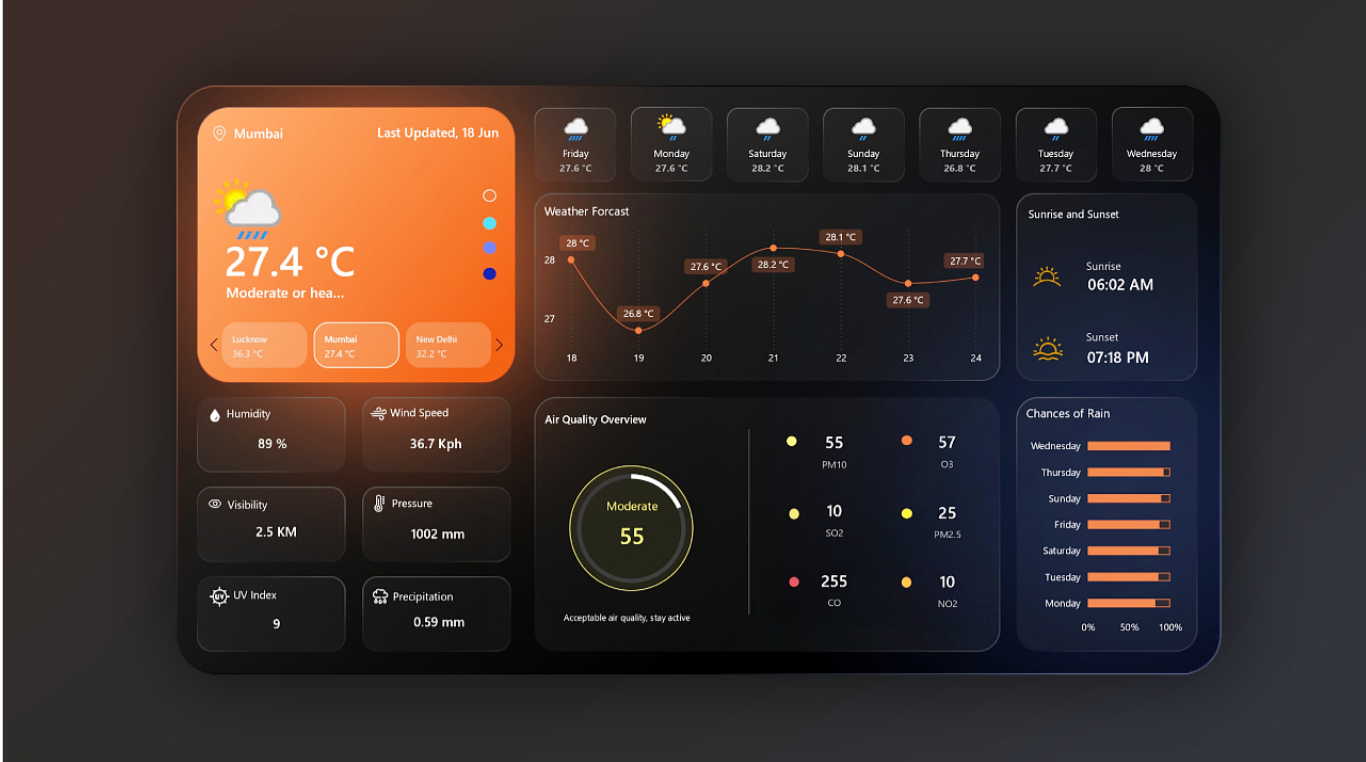

The dashboard page shown, as its layout file describes it:
{"tool":"powerbi","page":{"name":"Page 1","canvas":[1280,720],"ordinal":0},"visuals":[{"type":"donutChart","fields":{"Y":["Sum(Current.current.air_quality.pm10)","_Measures.Left_value_PM10"]},"box":[445.3,432.8,226.8,225.4],"z":0},{"type":"shape","box":[460.6,448.1,197.6,200.4],"z":1000},{"type":"advancedSlicerVisual","fields":{"Values":["Locations.location.name"]},"box":[16.9,284.7,409,74.8],"z":2000},{"type":"shape","box":[41,182.2,181,62.7],"z":3000},{"type":"shape","box":[41,244.9,181,39.8],"z":4000},{"type":"shape","box":[67.6,39.8,120.6,39.8],"z":5000},{"type":"shape","box":[165.3,41,237.7,41],"z":6000},{"type":"image","box":[32.6,44.6,35,33.8],"z":7000},{"type":"cardVisual","fields":{"Data":["Min(Current.current.condition.icon)"]},"box":[0,67.6,188.2,152],"z":8000},{"type":"image","box":[30.2,377.6,31.4,29],"z":9000},{"type":"image","box":[22.9,487.4,44.6,37.4],"z":10000},{"type":"image","box":[26.5,596,38.6,36.2],"z":11000},{"type":"image","box":[222,377.6,43.4,29],"z":12000},{"type":"image","box":[228,487.4,31.4,32.6],"z":13000},{"type":"image","box":[224.4,603.2,38.6,29],"z":14000},{"type":"shape","box":[61.5,371.6,237.7,41],"z":15000},{"type":"shape","box":[61.5,483.8,237.7,41],"z":16000},{"type":"shape","box":[65.1,593.6,237.7,41],"z":17000},{"type":"shape","box":[259.4,371.6,237.7,41],"z":18000},{"type":"shape","box":[259.4,483.8,237.7,41],"z":19000},{"type":"shape","box":[259.4,597.2,237.7,41],"z":20000},{"type":"card","fields":{"Values":["Sum(Current.current.humidity)"]},"box":[43.8,407,123.6,52.8],"z":21000},{"type":"card","fields":{"Values":["_Measures.Wind_Speed"]},"box":[253.7,405.7,124.9,52.8],"z":22000},{"type":"card","fields":{"Values":["Sum(Current.current.pressure_in)"]},"box":[254.6,520,124.3,53.1],"z":23000},{"type":"card","fields":{"Values":["_Measures.Visibility_Distance"]},"box":[39.9,525.5,124.9,54.1],"z":24000},{"type":"card","fields":{"Values":["Sum(Current.current.uv)"]},"box":[39.9,632.4,124.9,54.1],"z":25000},{"type":"card","fields":{"Values":["_Measures.Precipitation_Measure"]},"box":[237,631.1,124.9,54.1],"z":26000},{"type":"advancedSlicerVisual","fields":{"Values":["Forecast By Day.Day_Name"]},"box":[425.9,20.5,836.1,94.1],"z":27000},{"type":"lineChart","title":"Forecast Weather","fields":{"Y":["Sum(Forecast By Day.forecast.forecastday.day.avgtemp_c)"],"Category":["Forecast By Day.Day_Name"]},"box":[448,140.4,550.1,209.3],"z":28000},{"type":"shape","box":[1042.8,130.2,237.4,40.8],"z":29000},{"type":"shape","box":[1124.3,176.1,155.7,42.1],"z":30000},{"type":"shape","box":[1124.3,206.8,155.7,43.4],"z":31000},{"type":"shape","box":[1124.3,264.2,155.7,62.5],"z":32000},{"type":"shape","box":[1124.3,242.5,155.7,43.4],"z":33000},{"type":"image","box":[1051.8,188.9,60,49.8],"z":34000},{"type":"image","box":[1042.8,245.1,74,63.8],"z":35000},{"type":"hundredPercentStackedBarChart","title":"Chance of Rain","fields":{"Y":["Sum(Forecast By Day.forecast.forecastday.day.daily_chance_of_rain)","Current.Left_value_Rain"],"Category":["Forecast By Day.Day_Name"]},"box":[1042.8,391.9,196.6,292.3],"z":36000},{"type":"shape","box":[448.1,386.9,238,40.4],"z":37000},{"type":"card","fields":{"Values":["Sum(Current.current.air_quality.o3)"]},"box":[864.2,424.4,123.9,69.6],"z":38000},{"type":"card","fields":{"Values":["Sum(Current.current.air_quality.pm2_5)"]},"box":[865.6,510.7,123.9,69.6],"z":39000},{"type":"card","fields":{"Values":["Sum(Current.current.air_quality.no2)"]},"box":[864.2,590,123.9,69.6],"z":40000},{"type":"card","fields":{"Values":["Sum(Current.current.air_quality.pm10)"]},"box":[723.6,424.4,123.9,69.6],"z":41000},{"type":"card","fields":{"Values":["Sum(Current.current.air_quality.so2)"]},"box":[723.6,510.7,123.9,69.6],"z":42000},{"type":"card","fields":{"Values":["Sum(Current.current.air_quality.co)"]},"box":[723.6,590,123.9,69.6],"z":43000},{"type":"shape","box":[723.6,449.5,15,15],"z":44000},{"type":"shape","box":[722.2,609.5,15.3,15.3],"z":45000},{"type":"shape","box":[722.2,531.6,15.3,15.3],"z":46000},{"type":"shape","box":[864.2,448.1,15.3,15.3],"z":47000},{"type":"shape","box":[864.2,530.2,15.3,15.3],"z":48000},{"type":"shape","box":[865.6,610.9,15.3,15.3],"z":49000},{"type":"shape","box":[595.6,411.9,180.9,270],"z":50000},{"type":"card","fields":{"Values":["Sum(Current.current.air_quality.pm10)"]},"box":[496.8,512.1,123.9,69.6],"z":51000},{"type":"shape","box":[445.3,648.5,226.8,61.2],"z":52000}]}

Visuals, with their boxes in screenshot pixels (x1, y1, x2, y2), scaled from the page's 1280x720 canvas onto the 1366x762 screenshot:
donutChart - Sum(Current.current.air_quality.pm10) x _Measures.Left_value_PM10: l=475, t=458, r=717, b=697
shape: l=492, t=474, r=702, b=686
advancedSlicerVisual - Locations.location.name: l=18, t=301, r=455, b=380
shape: l=44, t=193, r=237, b=259
shape: l=44, t=259, r=237, b=301
shape: l=72, t=42, r=201, b=84
shape: l=176, t=43, r=430, b=87
image: l=35, t=47, r=72, b=83
cardVisual - Min(Current.current.condition.icon): l=0, t=72, r=201, b=232
image: l=32, t=400, r=66, b=430
image: l=24, t=516, r=72, b=555
image: l=28, t=631, r=69, b=669
image: l=237, t=400, r=283, b=430
image: l=243, t=516, r=277, b=550
image: l=239, t=638, r=281, b=669
shape: l=66, t=393, r=319, b=437
shape: l=66, t=512, r=319, b=555
shape: l=69, t=628, r=323, b=672
shape: l=277, t=393, r=530, b=437
shape: l=277, t=512, r=530, b=555
shape: l=277, t=632, r=530, b=675
card - Sum(Current.current.humidity): l=47, t=431, r=179, b=487
card - _Measures.Wind_Speed: l=271, t=429, r=404, b=485
card - Sum(Current.current.pressure_in): l=272, t=550, r=404, b=607
card - _Measures.Visibility_Distance: l=43, t=556, r=176, b=613
card - Sum(Current.current.uv): l=43, t=669, r=176, b=727
card - _Measures.Precipitation_Measure: l=253, t=668, r=386, b=725
advancedSlicerVisual - Forecast By Day.Day_Name: l=455, t=22, r=1347, b=121
"Forecast Weather" lineChart: l=478, t=149, r=1065, b=370
shape: l=1113, t=138, r=1365, b=181
shape: l=1200, t=186, r=1365, b=231
shape: l=1200, t=219, r=1365, b=265
shape: l=1200, t=280, r=1365, b=346
shape: l=1200, t=257, r=1365, b=303
image: l=1122, t=200, r=1186, b=253
image: l=1113, t=259, r=1192, b=327
"Chance of Rain" hundredPercentStackedBarChart: l=1113, t=415, r=1323, b=724
shape: l=478, t=409, r=732, b=452
card - Sum(Current.current.air_quality.o3): l=922, t=449, r=1054, b=523
card - Sum(Current.current.air_quality.pm2_5): l=924, t=540, r=1056, b=614
card - Sum(Current.current.air_quality.no2): l=922, t=624, r=1054, b=698
card - Sum(Current.current.air_quality.pm10): l=772, t=449, r=904, b=523
card - Sum(Current.current.air_quality.so2): l=772, t=540, r=904, b=614
card - Sum(Current.current.air_quality.co): l=772, t=624, r=904, b=698
shape: l=772, t=476, r=788, b=492
shape: l=771, t=645, r=787, b=661
shape: l=771, t=563, r=787, b=579
shape: l=922, t=474, r=939, b=490
shape: l=922, t=561, r=939, b=577
shape: l=924, t=647, r=940, b=663
shape: l=636, t=436, r=829, b=722
card - Sum(Current.current.air_quality.pm10): l=530, t=542, r=662, b=616
shape: l=475, t=686, r=717, b=751
